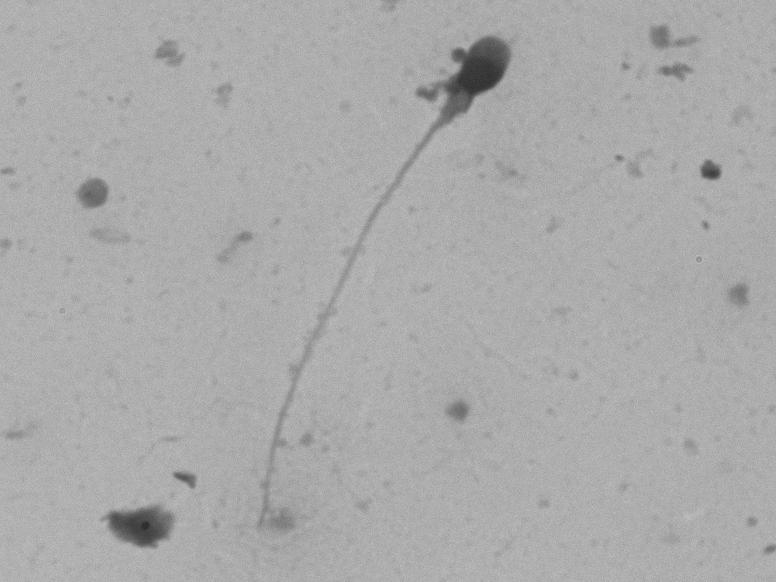Abnormal: (236, 20, 574, 521)
